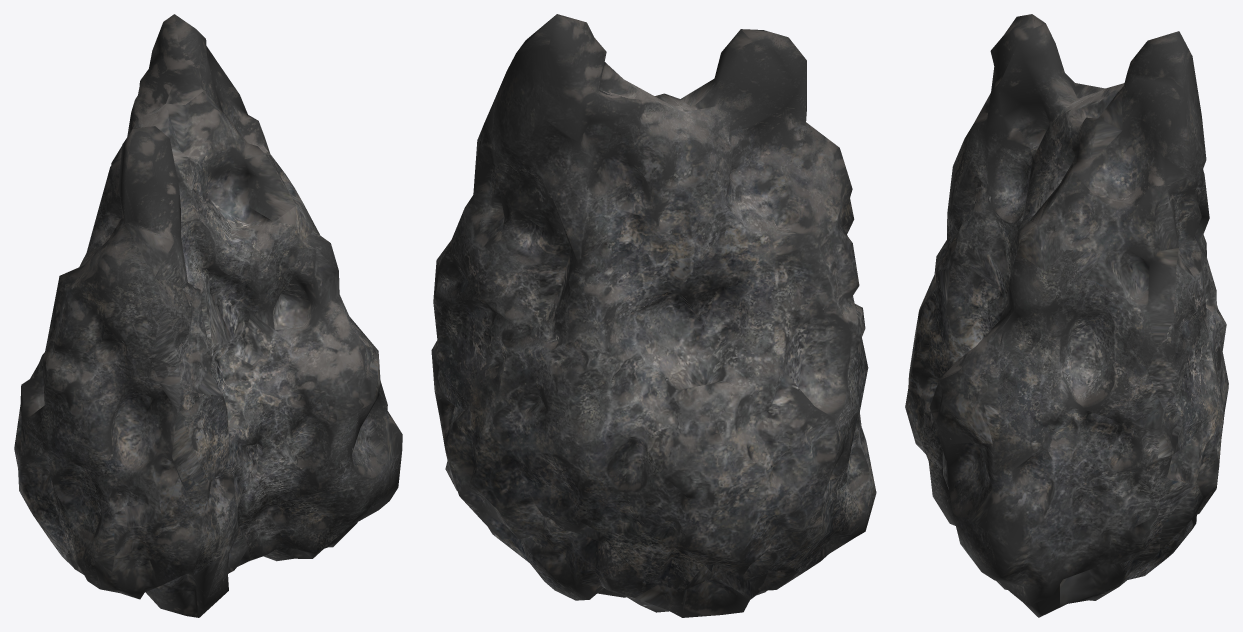
The model's file is Asteroid_01.fbx.
The picture shows the model from 3 angles, left to right: view 1: azimuth 30°, elevation 25°; view 2: azimuth 150°, elevation 25°; view 3: azimuth 270°, elevation 25°; orthographic projection. The views are drawn at different scales.
Visible parts, largest first — view 1: Asteroid_01; view 2: Asteroid_01; view 3: Asteroid_01.
Boxes of the visible parts, bbox=[...] form: Asteroid_01: bbox=[14, 14, 402, 617]; Asteroid_01: bbox=[431, 14, 876, 617]; Asteroid_01: bbox=[905, 14, 1228, 617].
Bounding box in the file's own units: 1.76 × 2.56 × 1.39.
1 material, 1 textured.
